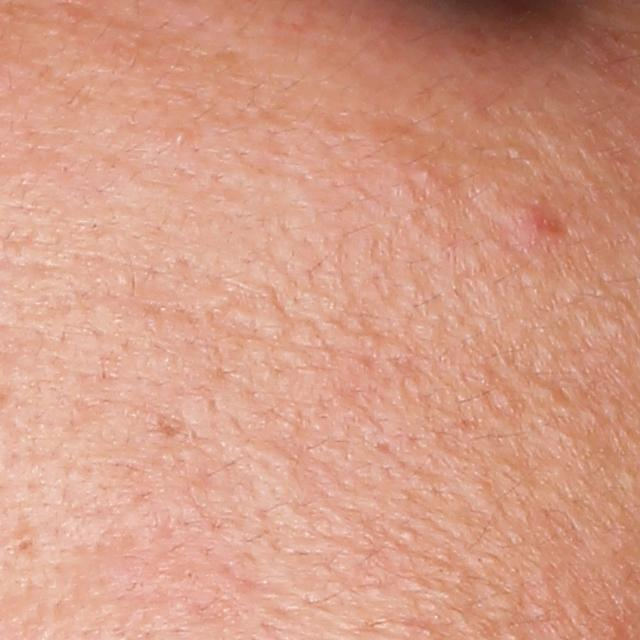atrophic_scar: (148, 413, 187, 439)
comedo: (175, 128, 189, 145)
